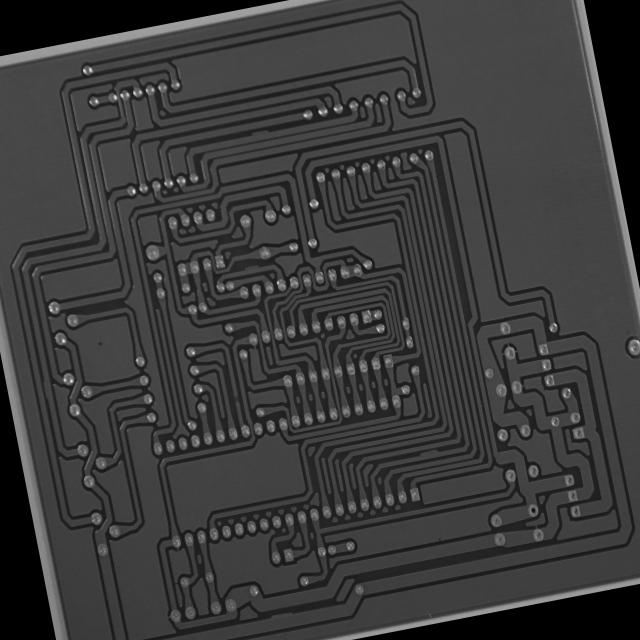spur: (266, 606, 296, 624), (417, 444, 442, 461), (248, 125, 272, 142), (40, 378, 54, 402), (240, 260, 263, 274)
